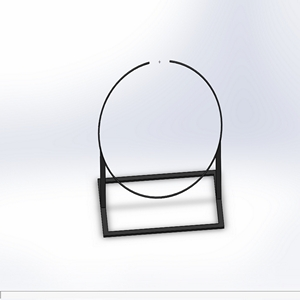circle: (96, 58, 227, 238)
